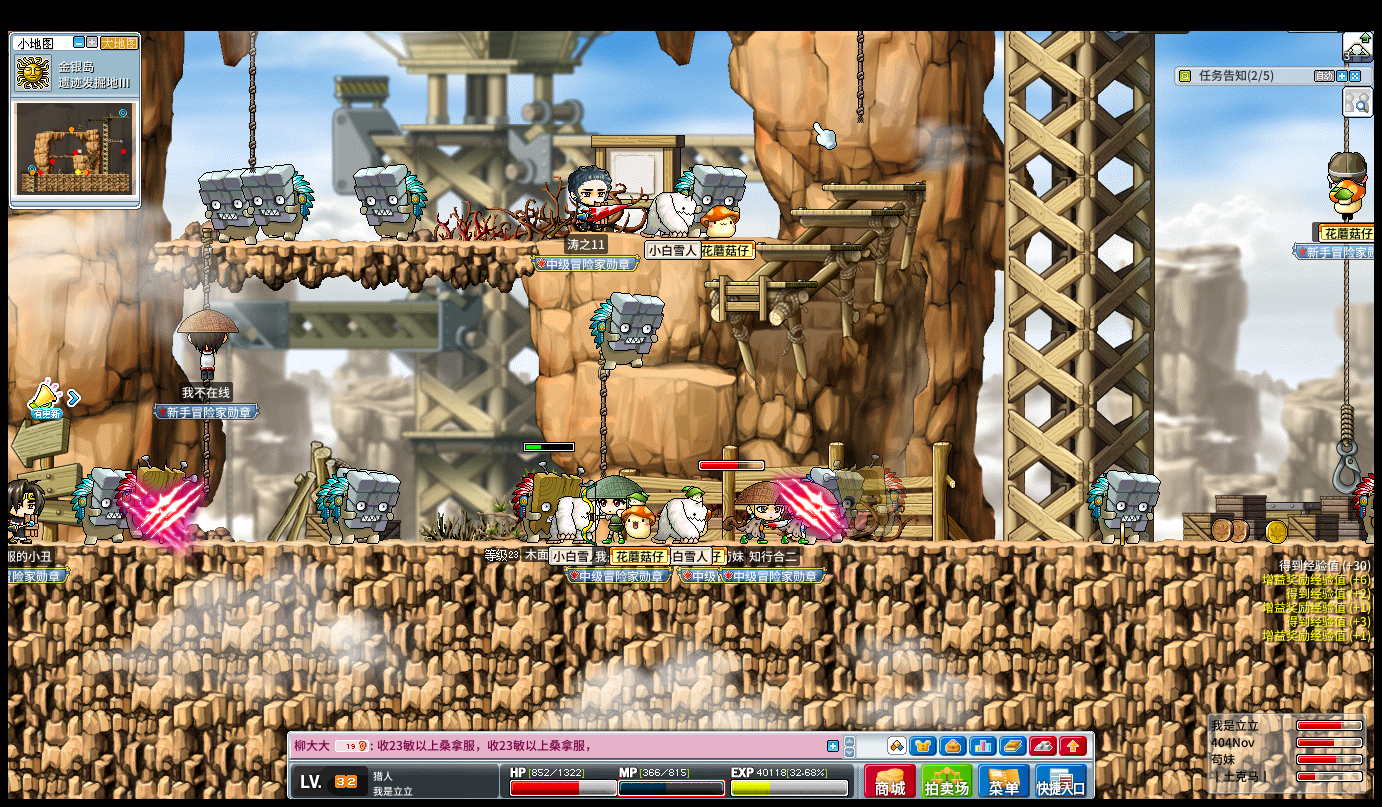floor: (8, 538, 1374, 550), (136, 239, 527, 251), (631, 364, 737, 387), (626, 232, 777, 242), (793, 206, 904, 215), (701, 281, 816, 289), (755, 243, 860, 250), (823, 184, 927, 191)
monster: (116, 459, 199, 543), (316, 469, 402, 546), (588, 291, 664, 371), (353, 163, 427, 243), (1087, 470, 1161, 543), (253, 163, 315, 242), (197, 168, 255, 244), (70, 468, 124, 542), (508, 466, 557, 542), (676, 165, 746, 205)
rope: (247, 30, 257, 170), (597, 360, 608, 472), (201, 231, 216, 309), (1344, 260, 1350, 404), (202, 419, 212, 503), (854, 30, 863, 122), (1341, 405, 1354, 440), (1344, 119, 1350, 152)
